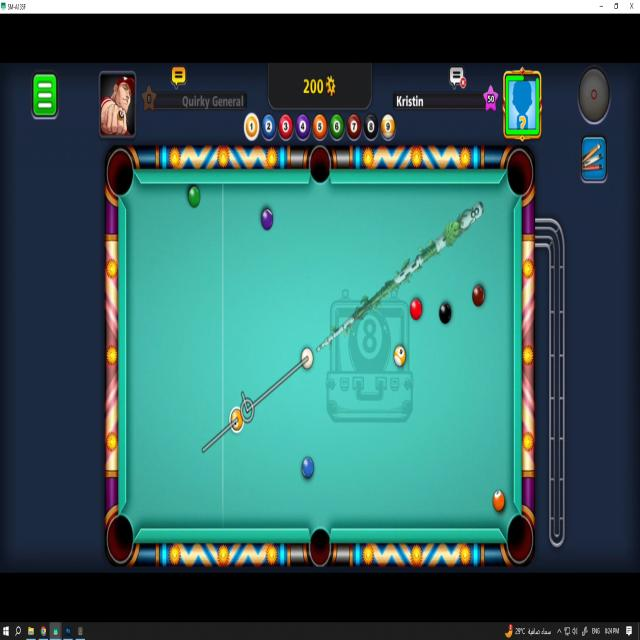object_ball: (230, 408, 243, 433), (302, 457, 314, 478), (439, 303, 451, 324), (188, 187, 200, 207), (410, 299, 422, 319), (261, 209, 272, 230), (493, 491, 504, 511), (473, 286, 484, 306), (394, 346, 405, 366)
white_cue_ball: (301, 348, 313, 369)
